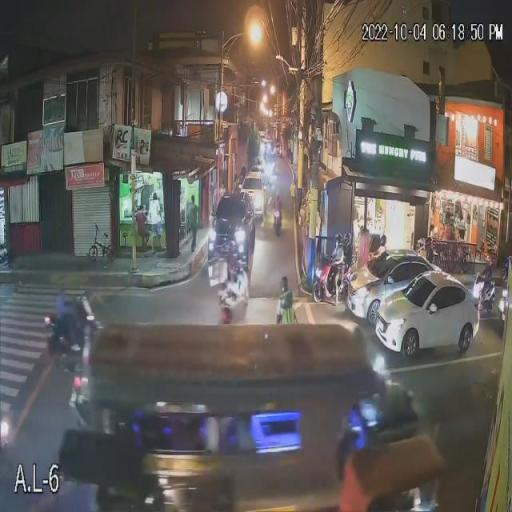helmet: (55, 288, 67, 301), (224, 262, 236, 274), (480, 256, 490, 267), (333, 231, 342, 242), (272, 190, 280, 200)
motorcycle: (46, 306, 84, 368), (327, 257, 356, 306), (218, 276, 246, 324), (313, 255, 340, 304), (471, 272, 494, 322), (270, 197, 284, 237)
rider: (48, 288, 82, 358), (217, 252, 248, 307), (327, 233, 351, 291), (476, 254, 496, 304), (271, 190, 283, 222)
